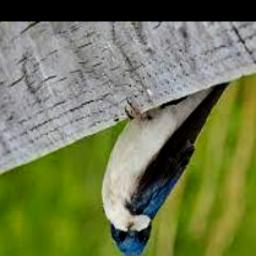Swallow: (102, 81, 230, 256)
